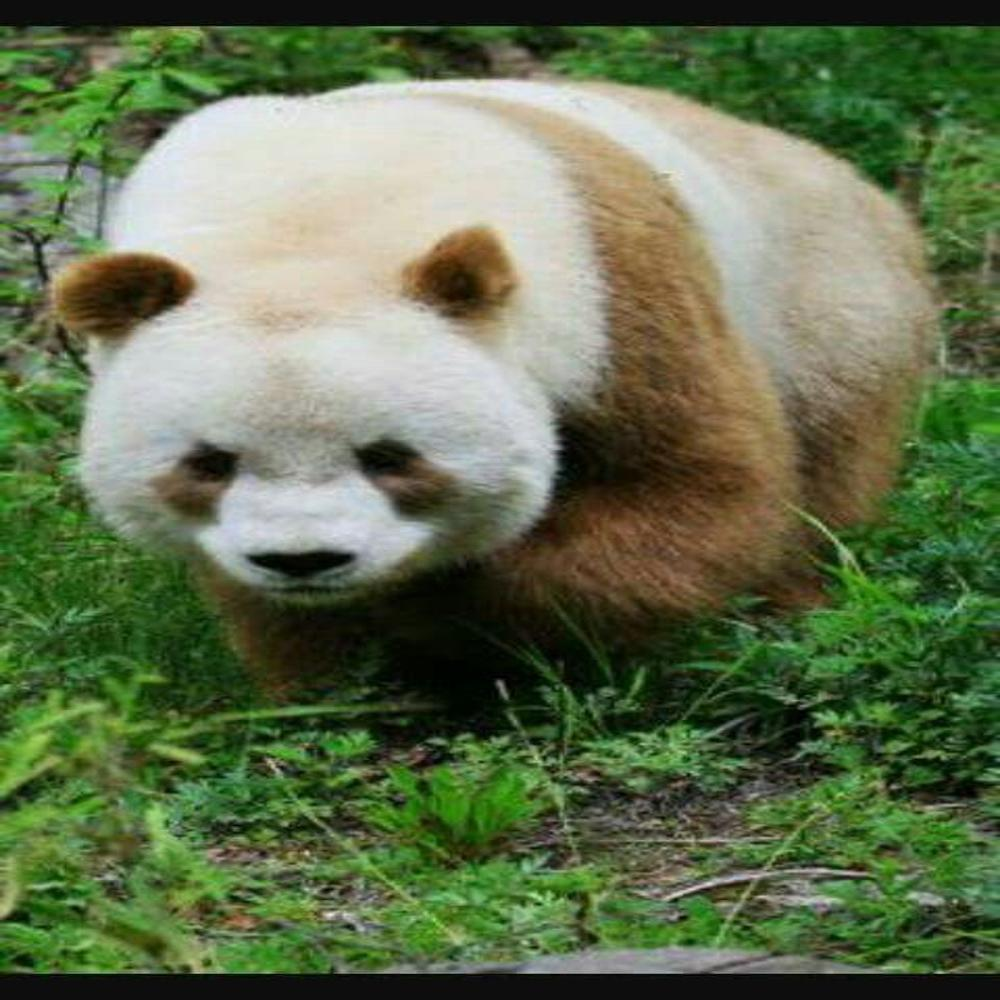panda: (48, 74, 947, 717)
